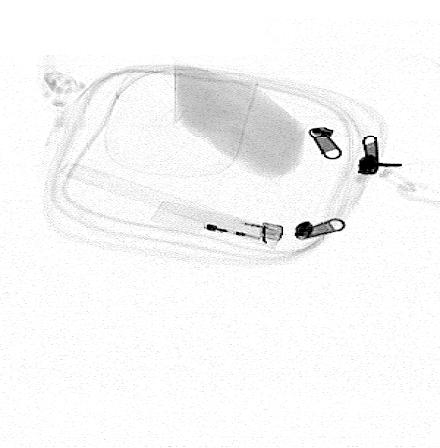Lighter: (151, 202, 285, 248)
